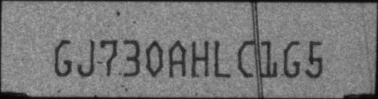1: (260, 39, 278, 78)
3: (122, 38, 141, 76)
5: (305, 39, 323, 79)
7: (100, 39, 118, 76)
A: (168, 39, 187, 78)
C: (236, 38, 253, 79)
G: (54, 39, 72, 77), (283, 41, 301, 78)
H: (191, 39, 210, 77)
J: (77, 38, 95, 78)
L: (214, 39, 232, 78)
O: (144, 38, 164, 77)
